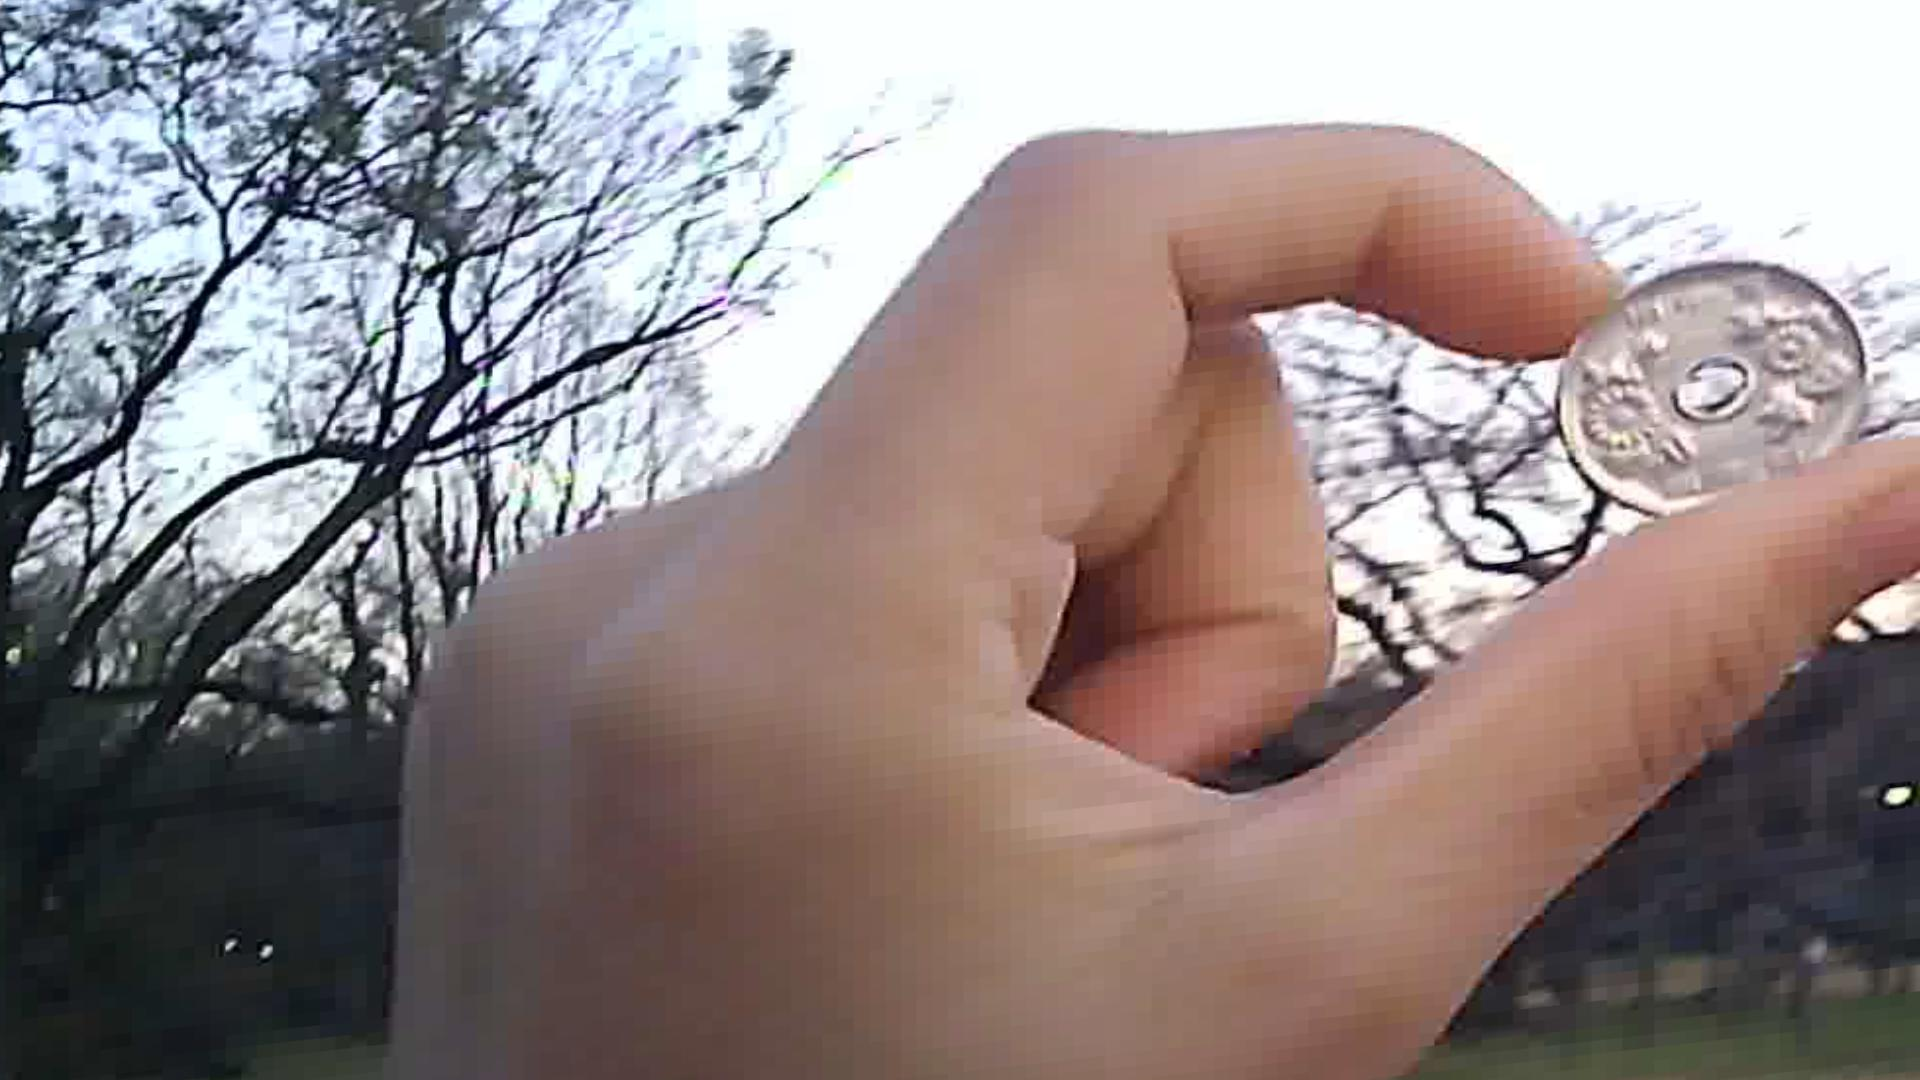50 Yen: (1549, 236, 1855, 535)
